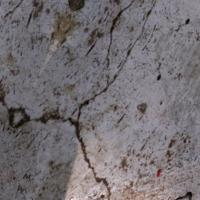crack: (24, 0, 177, 199)
